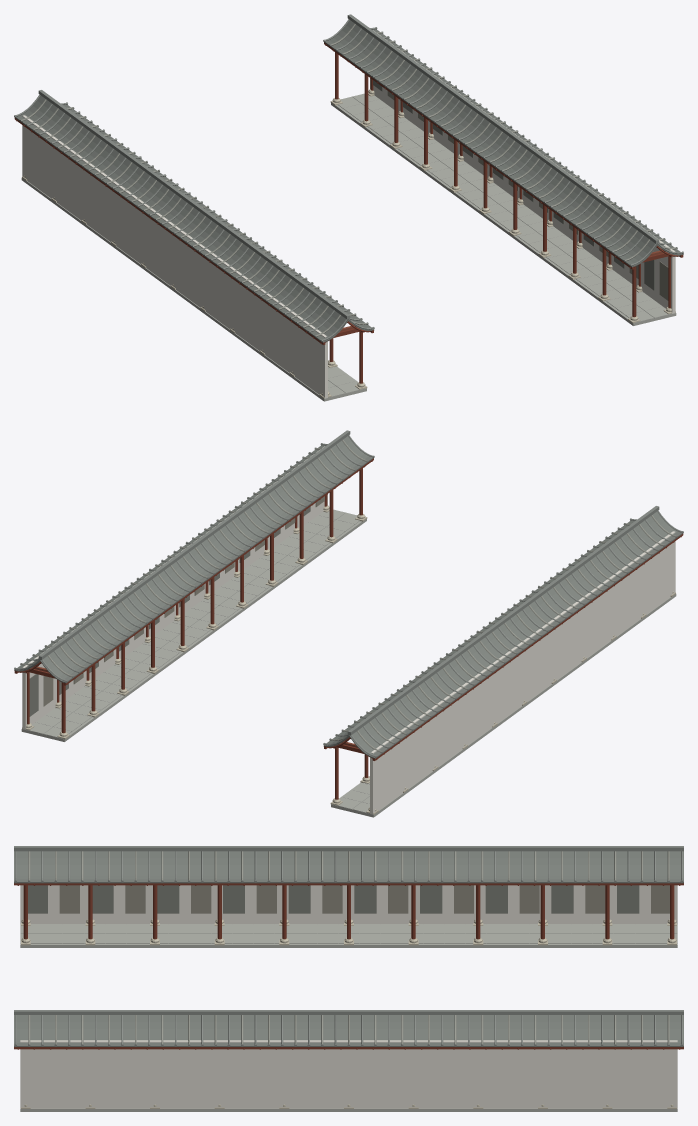
File: chongming-stele-corridors-lod.glb
The picture shows the model from 3 angles, top to bottom: view 1: azimuth 30°, elevation 25°; view 2: azimuth 150°, elevation 25°; view 3: azimuth 270°, elevation 25°; orthographic projection. The views are drawn at different scales.
Visible parts, largest first — view 1: East_long_component, West_long_component; view 2: East_long_component, West_long_component; view 3: East_long_component, West_long_component.
Part boxes in pixels (bbox=[...]): East_long_component: bbox=[323, 14, 683, 325]; West_long_component: bbox=[14, 90, 374, 401]; East_long_component: bbox=[14, 430, 374, 741]; West_long_component: bbox=[323, 506, 683, 817]; East_long_component: bbox=[14, 1010, 683, 1111]; West_long_component: bbox=[14, 846, 683, 947].
Size of the model in its own units: 21.09 by 4.6 by 31.1.
